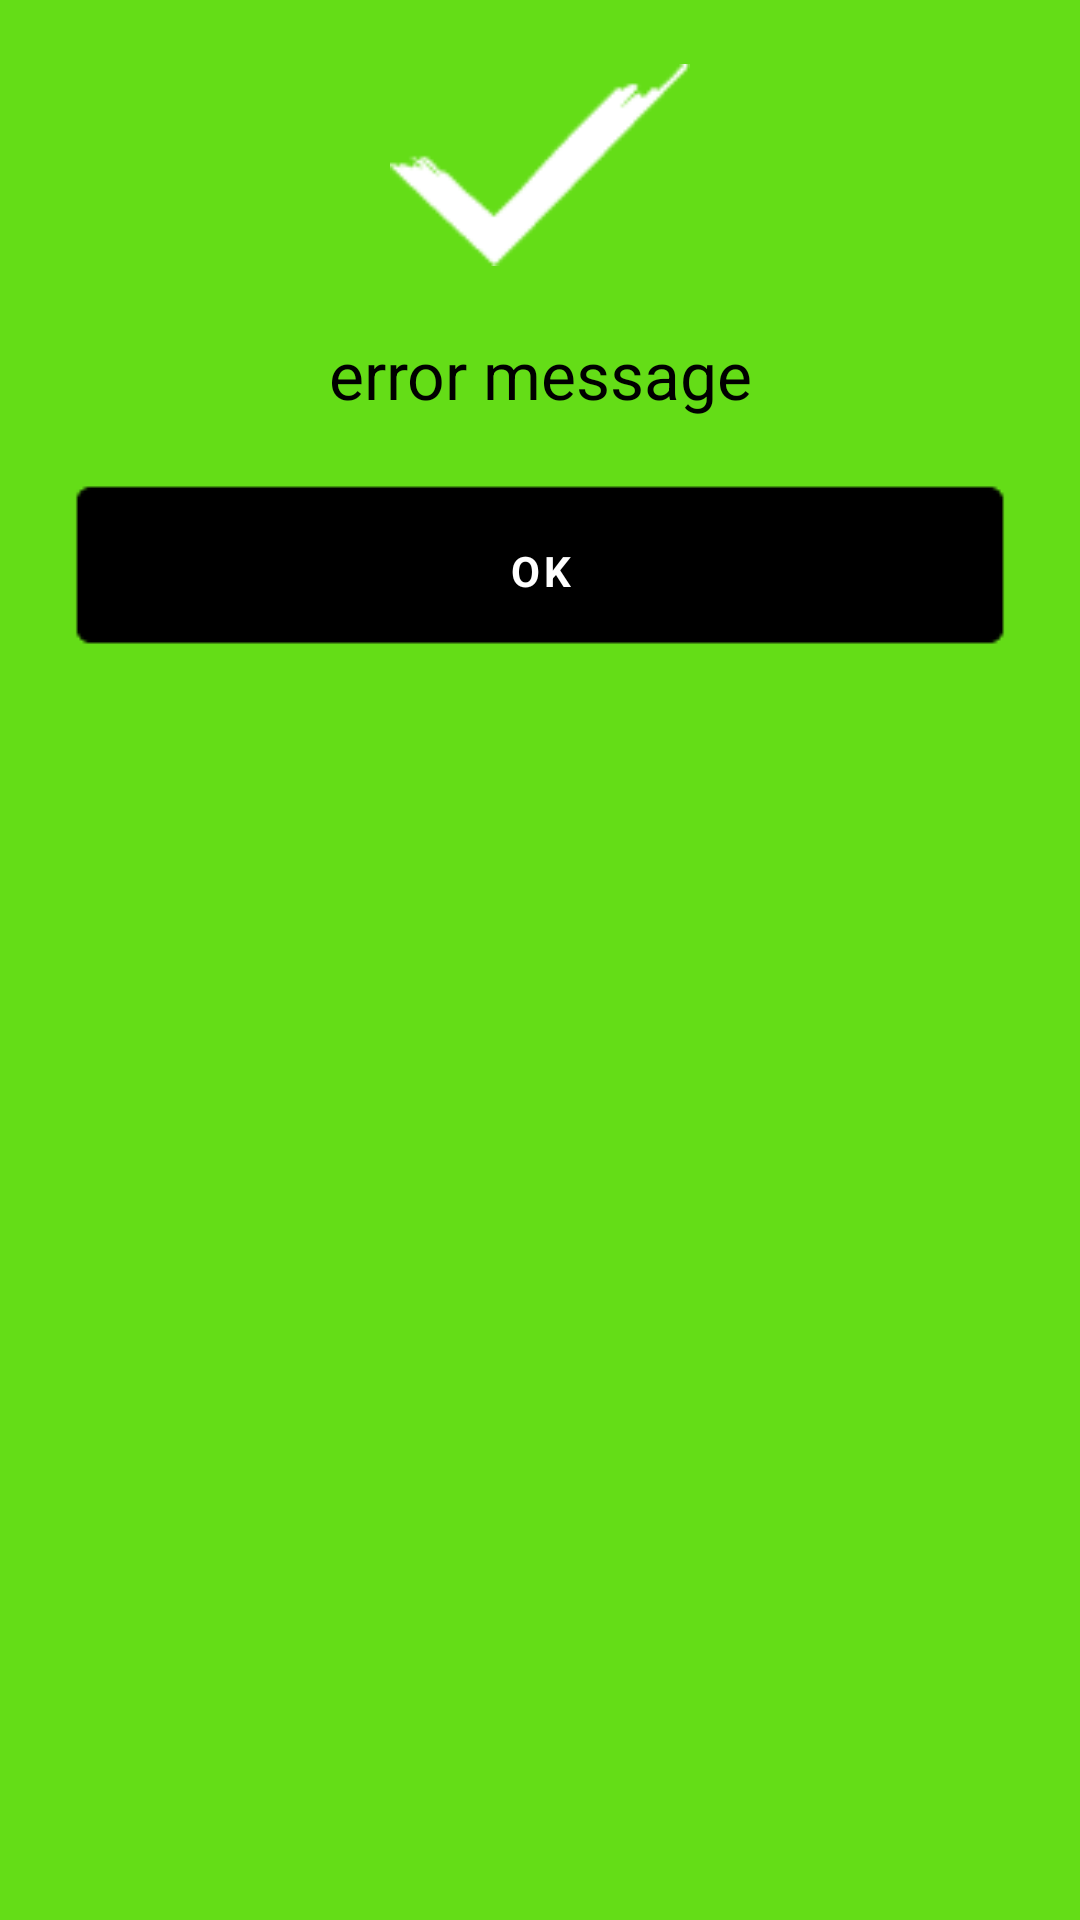

Icon bounding boxes for this 1080x1920 phone screenshot, format detection(x1, y1, x2, y2):
centang: detection(390, 64, 690, 266)
